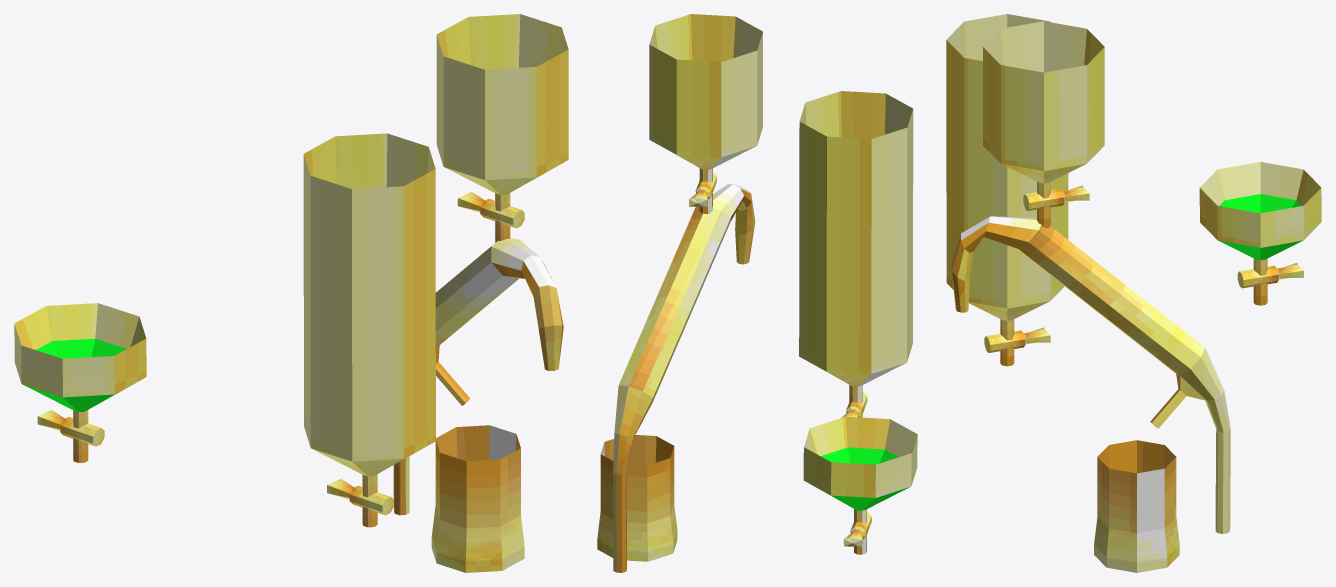
Rendered from chemical_lab_installation_static_glass.obj.
3 views of the same model, side by side, from view 1: azimuth 30°, elevation 25°; view 2: azimuth 150°, elevation 25°; view 3: azimuth 270°, elevation 25° (orthographic). The views are drawn at different scales.
Parts seen in each view (by area): view 1: Cube_Cube.002; view 2: Cube_Cube.002; view 3: Cube_Cube.002.
Boxes of the visible parts, left/top/right/bottom form: Cube_Cube.002: left=14, top=14, right=568, bottom=572; Cube_Cube.002: left=597, top=14, right=917, bottom=572; Cube_Cube.002: left=946, top=14, right=1321, bottom=572.
Bounding box in the file's own units: 0.7574 × 0.9509 × 0.6431.
